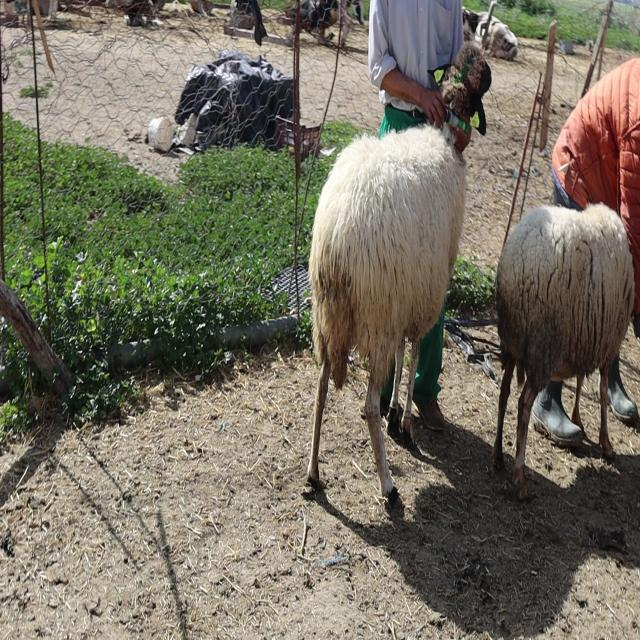Score_5: (307, 126, 467, 505)
